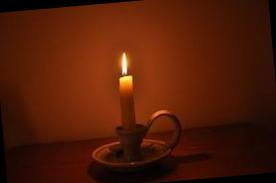Fire: (118, 47, 132, 76)
